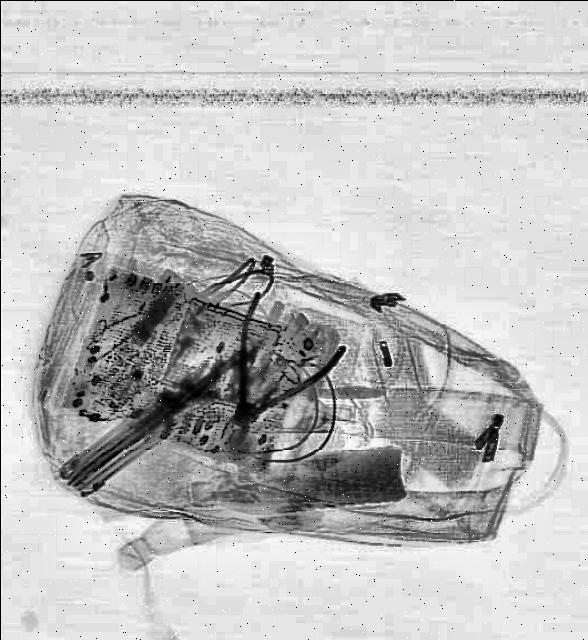Pliers: (186, 290, 350, 470)
